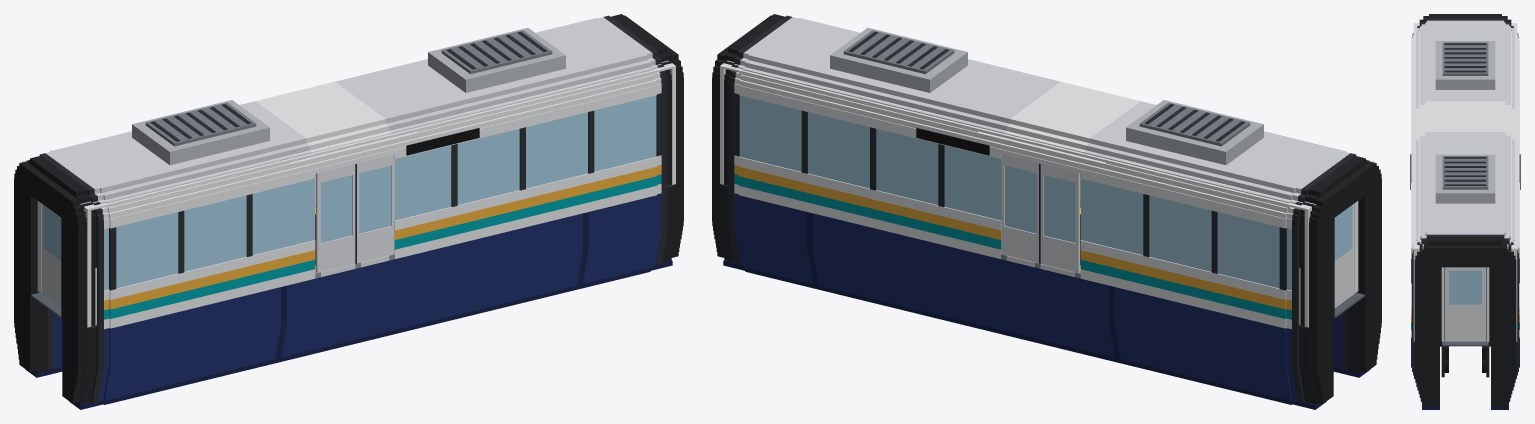
File: las_vegas_car.obj
3 renders of one model, left to right at view 1: azimuth 30°, elevation 25°; view 2: azimuth 150°, elevation 25°; view 3: azimuth 270°, elevation 25°, orthographic. The views are drawn at different scales.
Parts seen in each view (by area): view 1: SHELL, SHELL_diaphragm, SHELL_roof, EXTERNAL_DOOR_4_CG_DR1_TOGGLE_TL_-0.79_X, EXTERNAL_DOOR_5_CG_DR1_TOGGLE_TL_0.79_X, SHELL_ceiling, CONNECTING_DOOR_1_CG_CR_TOGGLE_TL_0.98_Z, SHELL_end, SHELL_ad, SHELL_sign; view 2: SHELL, SHELL_diaphragm, SHELL_roof, EXTERNAL_DOOR_7_CG_DL1_TOGGLE_TL_-0.79_X, EXTERNAL_DOOR_8_CG_DL1_TOGGLE_TL_0.79_X, SHELL_ceiling, CONNECTING_DOOR_1_CG_CR_TOGGLE_TL_0.98_Z, SHELL_end, SHELL_ad, SHELL_sign; view 3: SHELL, SHELL_diaphragm, SHELL_roof, CONNECTING_DOOR_2_CG_CF_TOGGLE_TL_0.98_Z, SHELL_ceiling, SHELL_end, BOGEY_FRONT, SHELL_gangway, SHELL_floor, SHELL_sign.
Boxes of the visible parts, x1=… form: SHELL: x1=25, y1=14, x2=677, y2=409; SHELL_diaphragm: x1=14, y1=15, x2=683, y2=403; SHELL_roof: x1=132, y1=27, x2=565, y2=165; EXTERNAL_DOOR_4_CG_DR1_TOGGLE_TL_-0.79_X: x1=316, y1=163, x2=356, y2=272; EXTERNAL_DOOR_5_CG_DR1_TOGGLE_TL_0.79_X: x1=357, y1=154, x2=394, y2=263; SHELL_ceiling: x1=25, y1=61, x2=672, y2=210; CONNECTING_DOOR_1_CG_CR_TOGGLE_TL_0.98_Z: x1=41, y1=203, x2=61, y2=307; SHELL_end: x1=22, y1=60, x2=675, y2=327; SHELL_ad: x1=106, y1=72, x2=656, y2=212; SHELL_sign: x1=406, y1=128, x2=479, y2=155; SHELL: x1=718, y1=14, x2=1370, y2=409; SHELL_diaphragm: x1=712, y1=15, x2=1381, y2=403; SHELL_roof: x1=830, y1=27, x2=1263, y2=165; EXTERNAL_DOOR_7_CG_DL1_TOGGLE_TL_-0.79_X: x1=1039, y1=163, x2=1079, y2=272; EXTERNAL_DOOR_8_CG_DL1_TOGGLE_TL_0.79_X: x1=1001, y1=154, x2=1038, y2=263; SHELL_ceiling: x1=723, y1=61, x2=1370, y2=210; CONNECTING_DOOR_1_CG_CR_TOGGLE_TL_0.98_Z: x1=1334, y1=203, x2=1354, y2=307; SHELL_end: x1=720, y1=60, x2=1373, y2=327; SHELL_ad: x1=739, y1=72, x2=1289, y2=212; SHELL_sign: x1=916, y1=128, x2=989, y2=155; SHELL: x1=1411, y1=14, x2=1519, y2=409; SHELL_diaphragm: x1=1415, y1=16, x2=1515, y2=406; SHELL_roof: x1=1435, y1=41, x2=1495, y2=203; CONNECTING_DOOR_2_CG_CF_TOGGLE_TL_0.98_Z: x1=1444, y1=267, x2=1486, y2=341; SHELL_ceiling: x1=1413, y1=24, x2=1517, y2=247; SHELL_end: x1=1413, y1=23, x2=1517, y2=341; BOGEY_FRONT: x1=1441, y1=346, x2=1489, y2=377; SHELL_gangway: x1=1442, y1=340, x2=1488, y2=345; SHELL_floor: x1=1444, y1=267, x2=1486, y2=340; SHELL_sign: x1=1410, y1=154, x2=1520, y2=189.
Size of the model in its own units: 13.32 by 4.85 by 2.66.
Materials: 1 (1 with a texture image).
